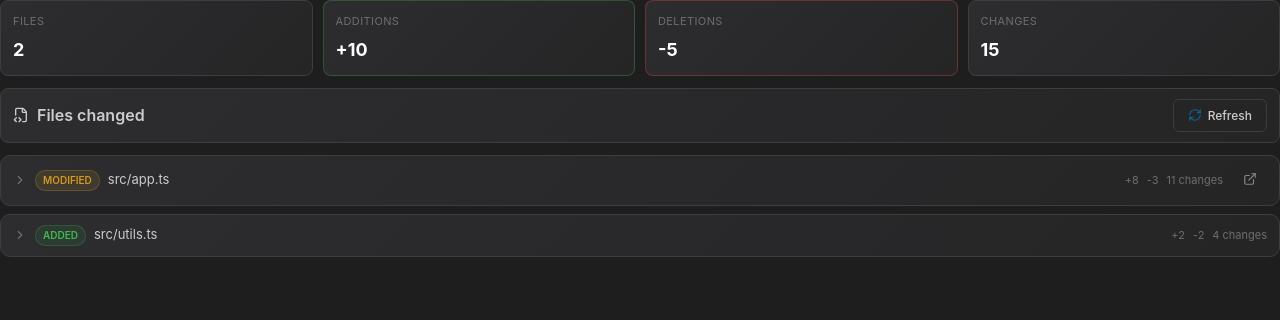
it: PRFilesChangedPanel › shows no-patch message for binary/large files
Expected: the text "src/utils.ts" is shown, x1=94 y1=225 x2=158 y2=245
Expand the file without a patch
Click the button "ADDED src/utils.ts +2 -2 4 changes". click: (60,235)
box: x1=13 y1=224 x2=1267 y2=246
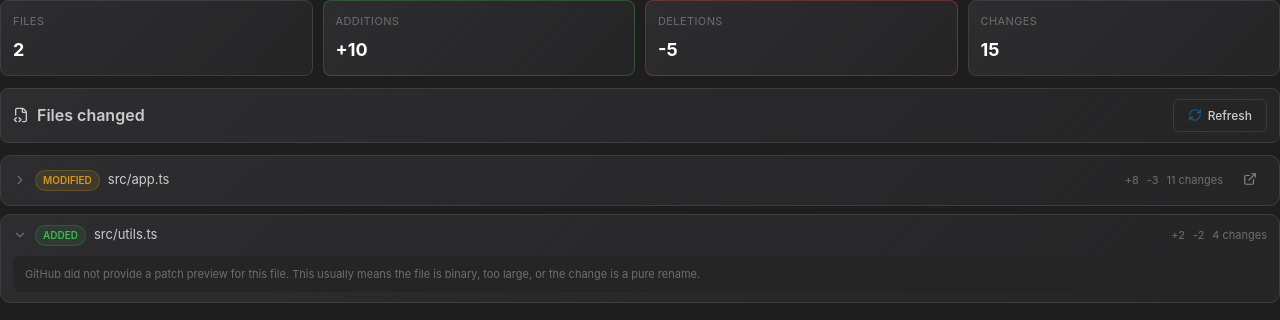
Now the text "GitHub did not provide a patch preview" is shown, box x1=25 y1=266 x2=700 y2=280
